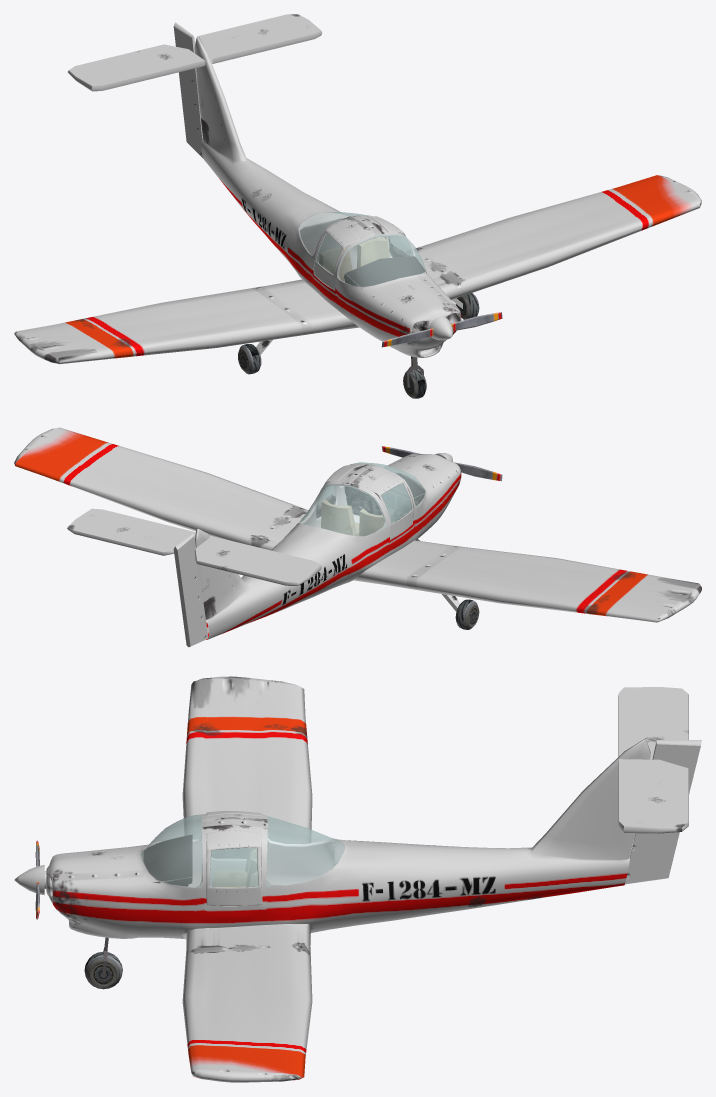
The model's file is Piper.fbx.
The picture shows the model from 3 angles, top to bottom: view 1: azimuth 30°, elevation 25°; view 2: azimuth 150°, elevation 25°; view 3: azimuth 270°, elevation 25°; orthographic projection. The views are drawn at different scales.
Visible parts, largest first — view 1: polySurface1, AlaPosterioreDestra, Parabrezza, alaPosterioreSinistra, AlettonePosteriore, polySurface2, pCube10, VetroPosteriore, PortaSinistra, SedileDestro1, VetroPortaSinistra; view 2: polySurface1, AlaPosterioreDestra, alaPosterioreSinistra, VetroPosteriore, AlettonePosteriore, pCube10, PortaSinistra (×2), SedileDestro1, polySurface2, VetroPortaSinistra, Parabrezza, pCylinder3 (+2 smaller); view 3: polySurface1, alaPosterioreSinistra, AlaPosterioreDestra, VetroPosteriore, polySurface2, AlettonePosteriore, Parabrezza, PortaSinistra, pCube10, VetroPortaSinistra, pCylinder4, SedileDestro.
Part boxes in pixels (box(x1,y1,x2,y2)): polySurface1: box(14, 37, 701, 364); AlaPosterioreDestra: box(68, 44, 205, 91); Parabrezza: box(336, 234, 425, 286); alaPosterioreSinistra: box(197, 14, 322, 63); AlettonePosteriore: box(173, 22, 203, 158); polySurface2: box(299, 212, 425, 290); pCube10: box(344, 256, 426, 288); VetroPosteriore: box(298, 212, 383, 258); PortaSinistra: box(313, 223, 359, 290); SedileDestro1: box(357, 238, 389, 267); VetroPortaSinistra: box(316, 233, 341, 275); polySurface1: box(14, 427, 701, 639); AlaPosterioreDestra: box(194, 536, 321, 585); alaPosterioreSinistra: box(67, 508, 195, 555); VetroPosteriore: box(299, 484, 386, 536); AlettonePosteriore: box(173, 533, 208, 647); pCube10: box(345, 473, 426, 522); PortaSinistra (×2): box(316, 465, 413, 539); SedileDestro1: box(321, 499, 359, 536); polySurface2: box(299, 472, 425, 540); VetroPortaSinistra: box(381, 483, 411, 524); Parabrezza: box(349, 462, 425, 507); pCylinder3: box(455, 599, 479, 629); polySurface1: box(46, 676, 650, 1082); alaPosterioreSinistra: box(618, 759, 688, 833); AlaPosterioreDestra: box(618, 687, 688, 759); VetroPosteriore: box(266, 816, 345, 886); polySurface2: box(141, 833, 344, 906); AlettonePosteriore: box(625, 740, 701, 884); Parabrezza: box(141, 814, 202, 887); PortaSinistra: box(206, 830, 262, 905); pCube10: box(143, 835, 192, 886); VetroPortaSinistra: box(209, 847, 258, 887); pCylinder4: box(84, 951, 122, 989); SedileDestro: box(213, 848, 256, 887).
Size of the model in its own units: 7.79 by 2.25 by 5.64.
